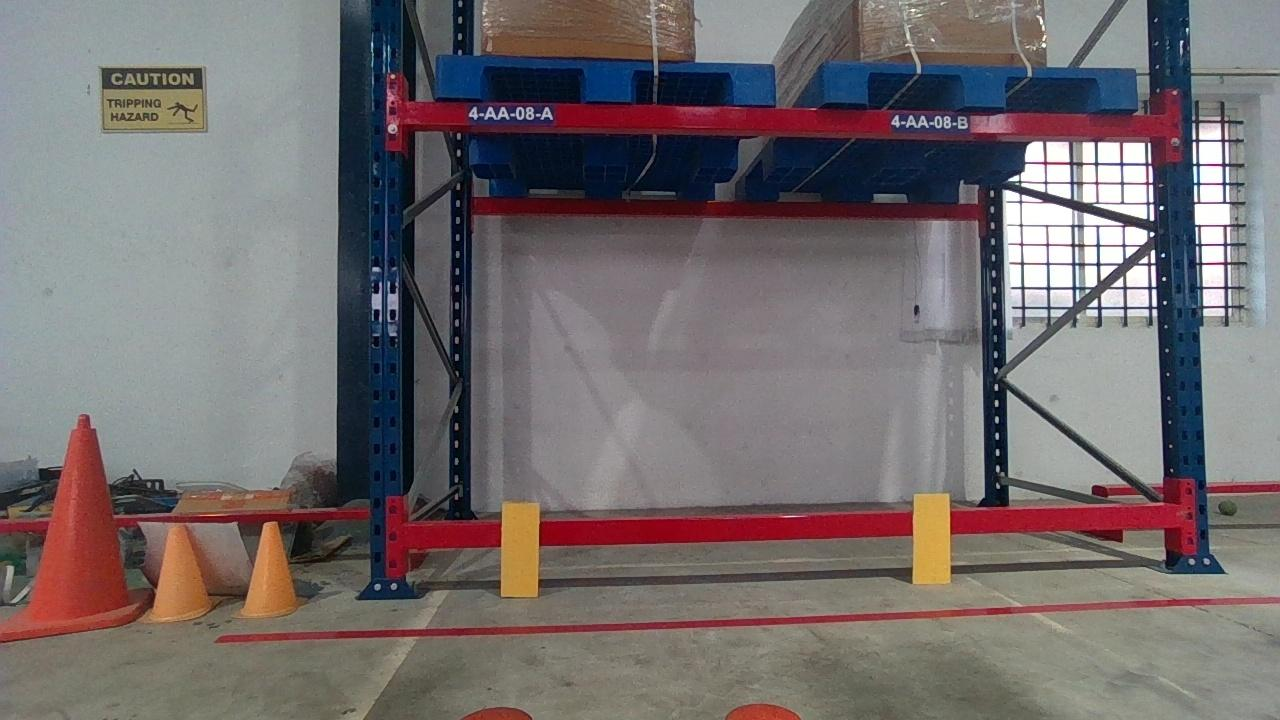h_rack: (404, 503, 1180, 548), (404, 97, 1164, 138)
orange_strip: (500, 502, 540, 595), (911, 492, 950, 582)
red_line: (209, 592, 1275, 645)
small_pallet: (435, 57, 777, 102), (815, 62, 1141, 108)
